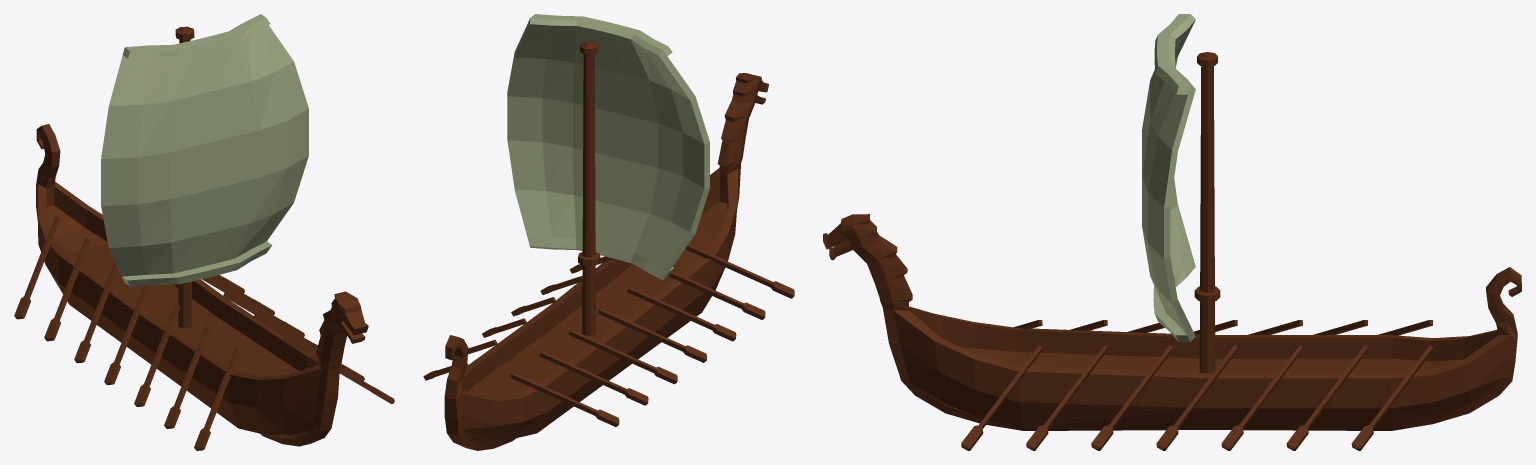
Rendered from viking_boat.glb.
The picture shows the model from 3 angles, left to right: view 1: azimuth 30°, elevation 25°; view 2: azimuth 150°, elevation 25°; view 3: azimuth 270°, elevation 25°; orthographic projection. The views are drawn at different scales.
Visible parts, largest first — view 1: Sail_Plane, Viking_Ship_Cylinder; view 2: Viking_Ship_Cylinder, Sail_Plane; view 3: Viking_Ship_Cylinder, Sail_Plane.
Part boxes in pixels (left/top/right/bottom): Sail_Plane: left=101, top=14, right=308, bottom=286; Viking_Ship_Cylinder: left=14, top=26, right=394, bottom=450; Viking_Ship_Cylinder: left=423, top=41, right=794, bottom=450; Sail_Plane: left=507, top=14, right=709, bottom=279; Viking_Ship_Cylinder: left=823, top=52, right=1521, bottom=450; Sail_Plane: left=1142, top=14, right=1195, bottom=342.
Size of the model in its own units: 1.57 by 2.51 by 4.2.
